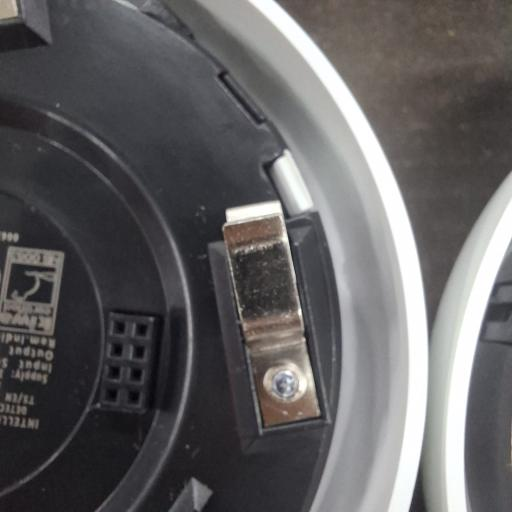yayli: (219, 203, 322, 430)
